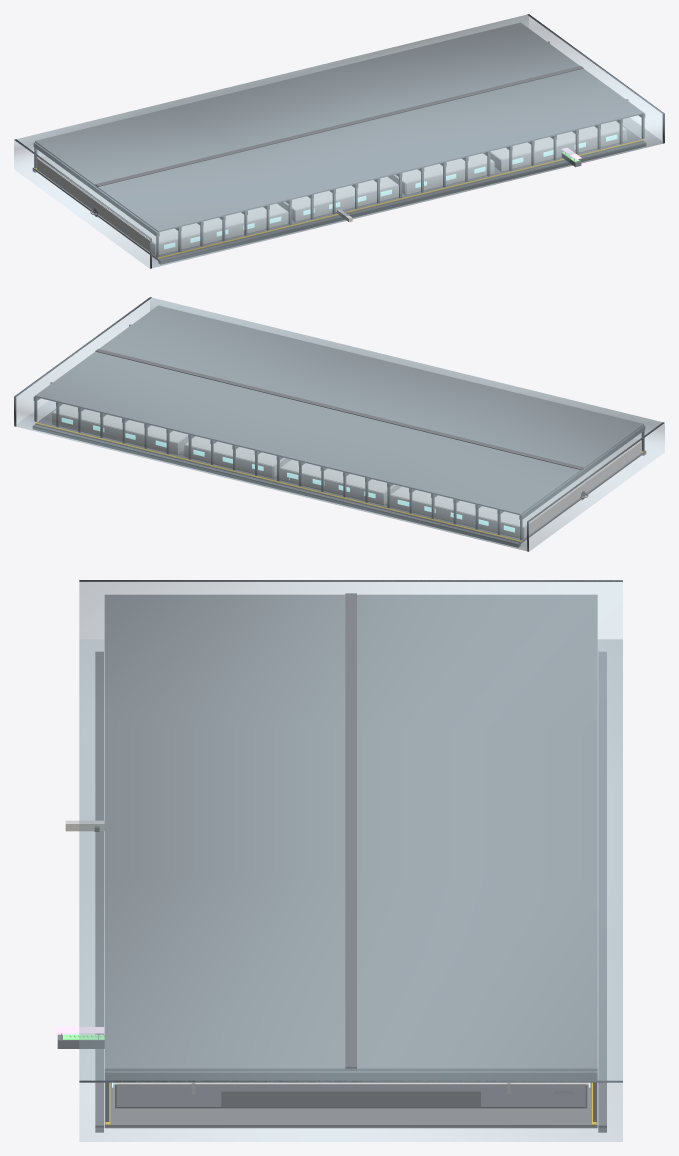
Rendered from dsx-02_deck_03_habitat.glb.
3 views of the same model, one above another, from view 1: azimuth 30°, elevation 25°; view 2: azimuth 150°, elevation 25°; view 3: azimuth 270°, elevation 25° (orthographic). The views are drawn at different scales.
Parts seen in each view (by area): view 1: DECK03_HullBand, DECK03_CeilingFrame, DECK03_DeckPlate, DECK03_Room_Quarters, DECK03_Room_Hydroponics, DECK03_Room_Wardroom, DECK03_Room_Medbay; view 2: DECK03_HullBand, DECK03_CeilingFrame, DECK03_DeckPlate, DECK03_Room_Quarters, DECK03_Room_Hydroponics, DECK03_Room_Wardroom, DECK03_Room_Medbay; view 3: DECK03_HullBand, DECK03_CeilingFrame, DECK03_DeckPlate, DECK03_Room_Hydroponics.
Boxes of the visible parts, <box> form: DECK03_HullBand: <box>14,14,664,268</box>; DECK03_CeilingFrame: <box>33,22,645,257</box>; DECK03_DeckPlate: <box>32,121,646,264</box>; DECK03_Room_Quarters: <box>37,156,288,255</box>; DECK03_Room_Hydroponics: <box>483,121,626,171</box>; DECK03_Room_Wardroom: <box>277,177,398,222</box>; DECK03_Room_Medbay: <box>388,153,494,194</box>; DECK03_HullBand: <box>14,297,664,551</box>; DECK03_CeilingFrame: <box>33,305,645,540</box>; DECK03_DeckPlate: <box>32,404,646,547</box>; DECK03_Room_Quarters: <box>390,439,641,538</box>; DECK03_Room_Hydroponics: <box>52,404,195,454</box>; DECK03_Room_Wardroom: <box>280,460,401,504</box>; DECK03_Room_Medbay: <box>184,436,290,477</box>; DECK03_HullBand: <box>79,580,622,1141</box>; DECK03_CeilingFrame: <box>104,593,597,1121</box>; DECK03_DeckPlate: <box>95,651,606,1132</box>; DECK03_Room_Hydroponics: <box>56,1027,590,1108</box>.
Size of the model in its own units: 140 by 8.95 by 66.75.
